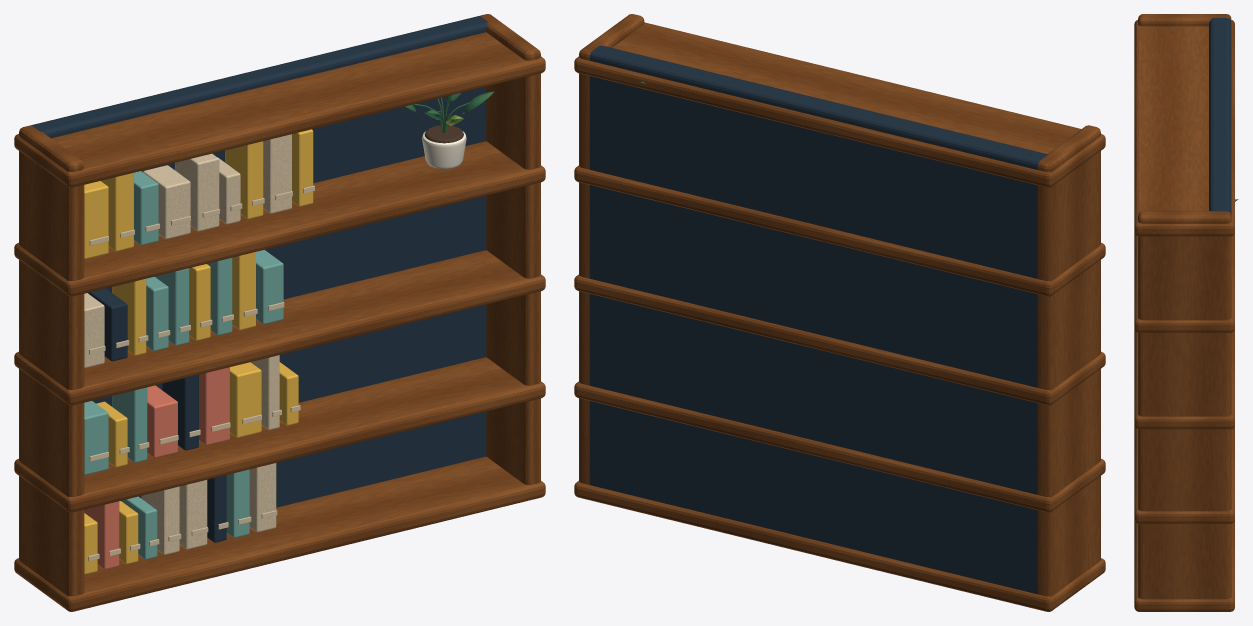
Rendered from bookcase.glb.
3 renders of one model, left to right at view 1: azimuth 30°, elevation 25°; view 2: azimuth 150°, elevation 25°; view 3: azimuth 270°, elevation 25°, orthographic. The views are drawn at different scales.
Parts seen in each view (by area): view 1: Living library back, Living library shelf.004, Living library upright, Living library shelf, Living library shelf.002, Living library shelf.001, Living library shelf.003, Living library upright.001, Living library book.031, Living library book.030, Living library book.015, Living library book.014 (+33 smaller); view 2: Living library back, Living library upright, Living library shelf.004, Living library shelf, Living library shelf.003, Living library shelf.001, Living library shelf.002, Living library upright.001; view 3: Living library upright.001, Living library shelf.004, Living library back, Living library shelf.002, Living library shelf.003, Living library shelf.001, Living library shelf, Living library upright.
Boxes of the visible parts, left/top/right/bottom form: Living library back: left=31, top=16, right=487, bottom=507; Living library shelf.004: left=14, top=32, right=545, bottom=187; Living library upright: left=19, top=125, right=84, bottom=596; Living library shelf: left=14, top=456, right=545, bottom=611; Living library shelf.002: left=14, top=250, right=545, bottom=405; Living library shelf.001: left=14, top=357, right=545, bottom=512; Living library shelf.003: left=14, top=141, right=545, bottom=296; Living library upright.001: left=480, top=14, right=540, bottom=484; Living library book.031: left=175, top=153, right=219, bottom=231; Living library book.030: left=143, top=165, right=190, bottom=239; Living library book.015: left=230, top=362, right=261, bottom=437; Living library book.014: left=199, top=367, right=229, bottom=445; Living library back: left=589, top=45, right=1047, bottom=594; Living library upright: left=1038, top=125, right=1100, bottom=596; Living library shelf.004: left=574, top=22, right=1105, bottom=187; Living library shelf: left=574, top=481, right=1105, bottom=611; Living library shelf.003: left=574, top=165, right=1105, bottom=296; Living library shelf.001: left=574, top=381, right=1105, bottom=512; Living library shelf.002: left=574, top=274, right=1105, bottom=405; Living library upright.001: left=579, top=14, right=644, bottom=484; Living library upright.001: left=1138, top=211, right=1231, bottom=599; Living library shelf.004: left=1134, top=20, right=1234, bottom=236; Living library back: left=1209, top=18, right=1231, bottom=214; Living library shelf.002: left=1134, top=329, right=1234, bottom=429; Living library shelf.003: left=1134, top=232, right=1234, bottom=332; Living library shelf.001: left=1134, top=425, right=1234, bottom=523; Living library shelf: left=1134, top=520, right=1234, bottom=611; Living library upright: left=1138, top=14, right=1231, bottom=26.
Bounding box in the file's own units: 2.62 × 2.34 × 0.5587.
10 materials, 2 textured.
